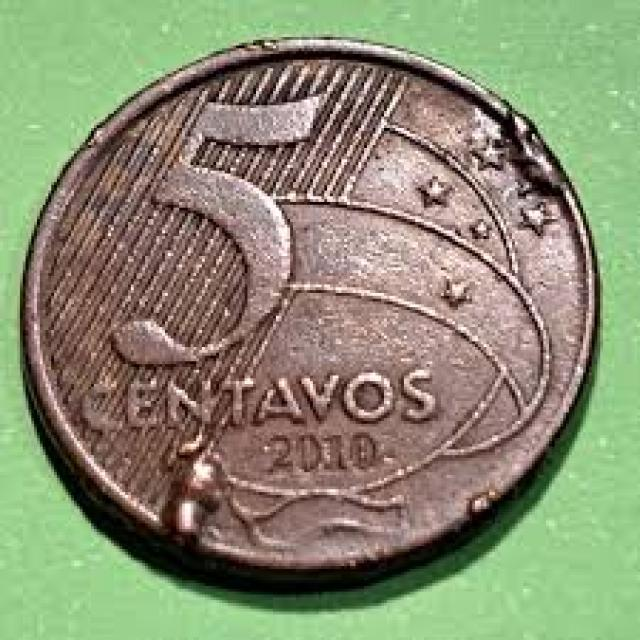5 cent: (23, 39, 601, 592)
